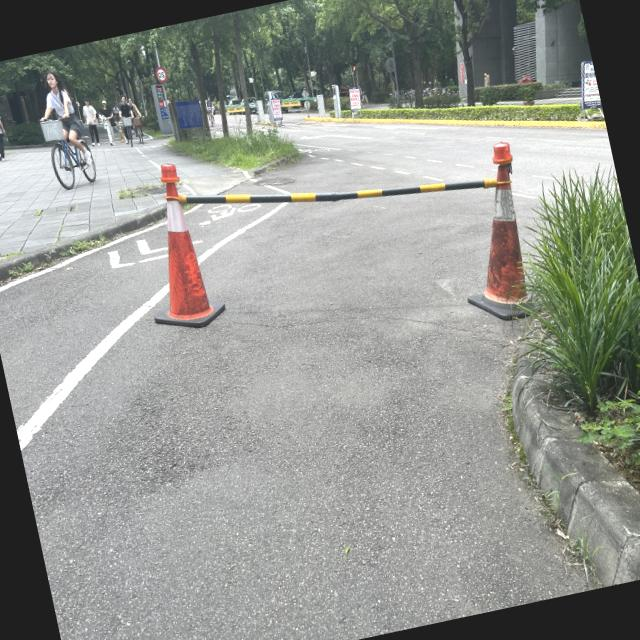bicycle: (36, 110, 106, 192)
cone: (444, 143, 556, 319), (132, 148, 216, 338)
